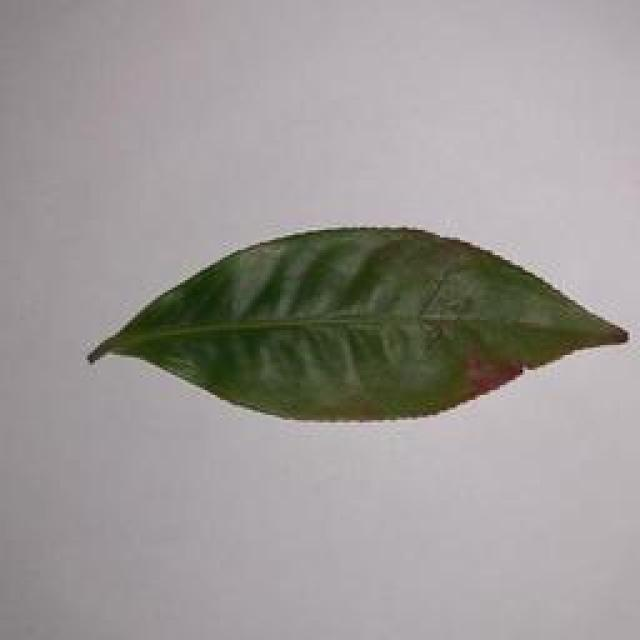Red Leaf Spot: (84, 195, 630, 423)
